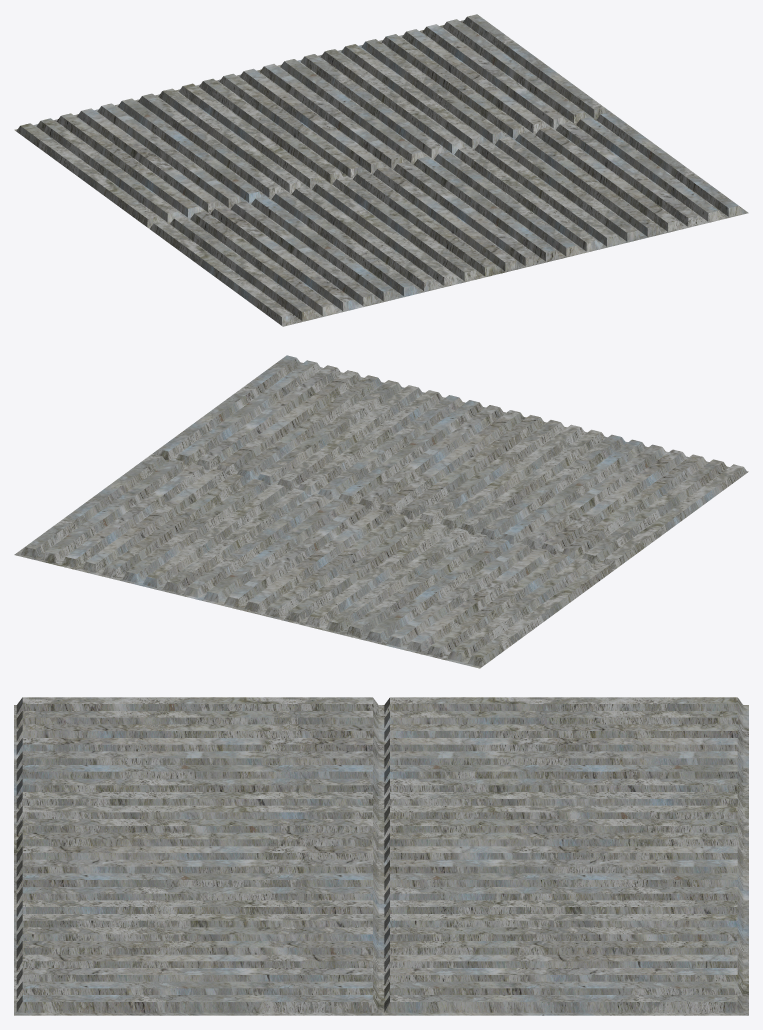
The model's file is Factory2Ceiling01.FBX.
The picture shows the model from 3 angles, top to bottom: view 1: azimuth 30°, elevation 25°; view 2: azimuth 150°, elevation 25°; view 3: azimuth 270°, elevation 25°; orthographic projection. The views are drawn at different scales.
Visible parts, largest first — view 1: Factory2Ceiling01; view 2: Factory2Ceiling01; view 3: Factory2Ceiling01.
Boxes of the visible parts, x1,y1,x2,y2 form: Factory2Ceiling01: (14, 14, 748, 326); Factory2Ceiling01: (14, 355, 748, 668); Factory2Ceiling01: (14, 697, 748, 1015).
Bounding box in the file's own units: 1200 × 16.53 × 1200.
